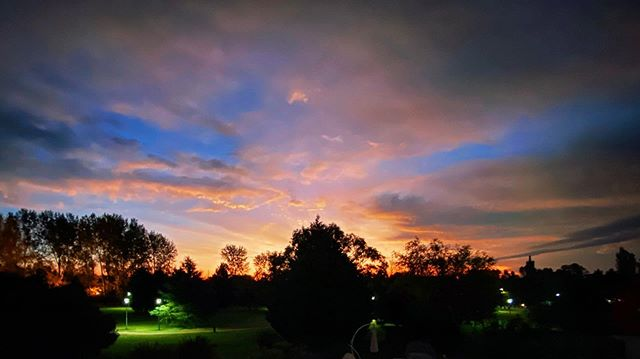sky: (1, 1, 614, 246)
tree: (1, 218, 162, 288), (280, 227, 376, 343), (399, 233, 498, 306)
